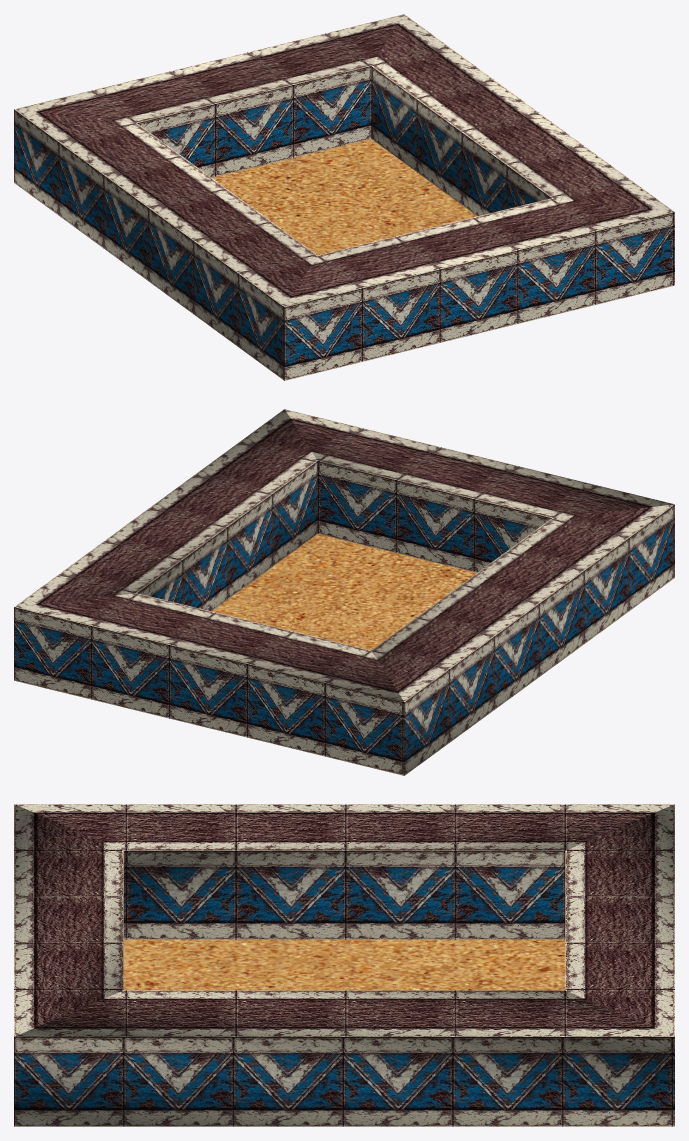
Rendered from Pool.obj.
The picture shows the model from 3 angles, top to bottom: view 1: azimuth 30°, elevation 25°; view 2: azimuth 150°, elevation 25°; view 3: azimuth 270°, elevation 25°; orthographic projection. The views are drawn at different scales.
Bounding box in the file's own units: 50 × 9 × 60.
Materials: 3 (3 with a texture image).
